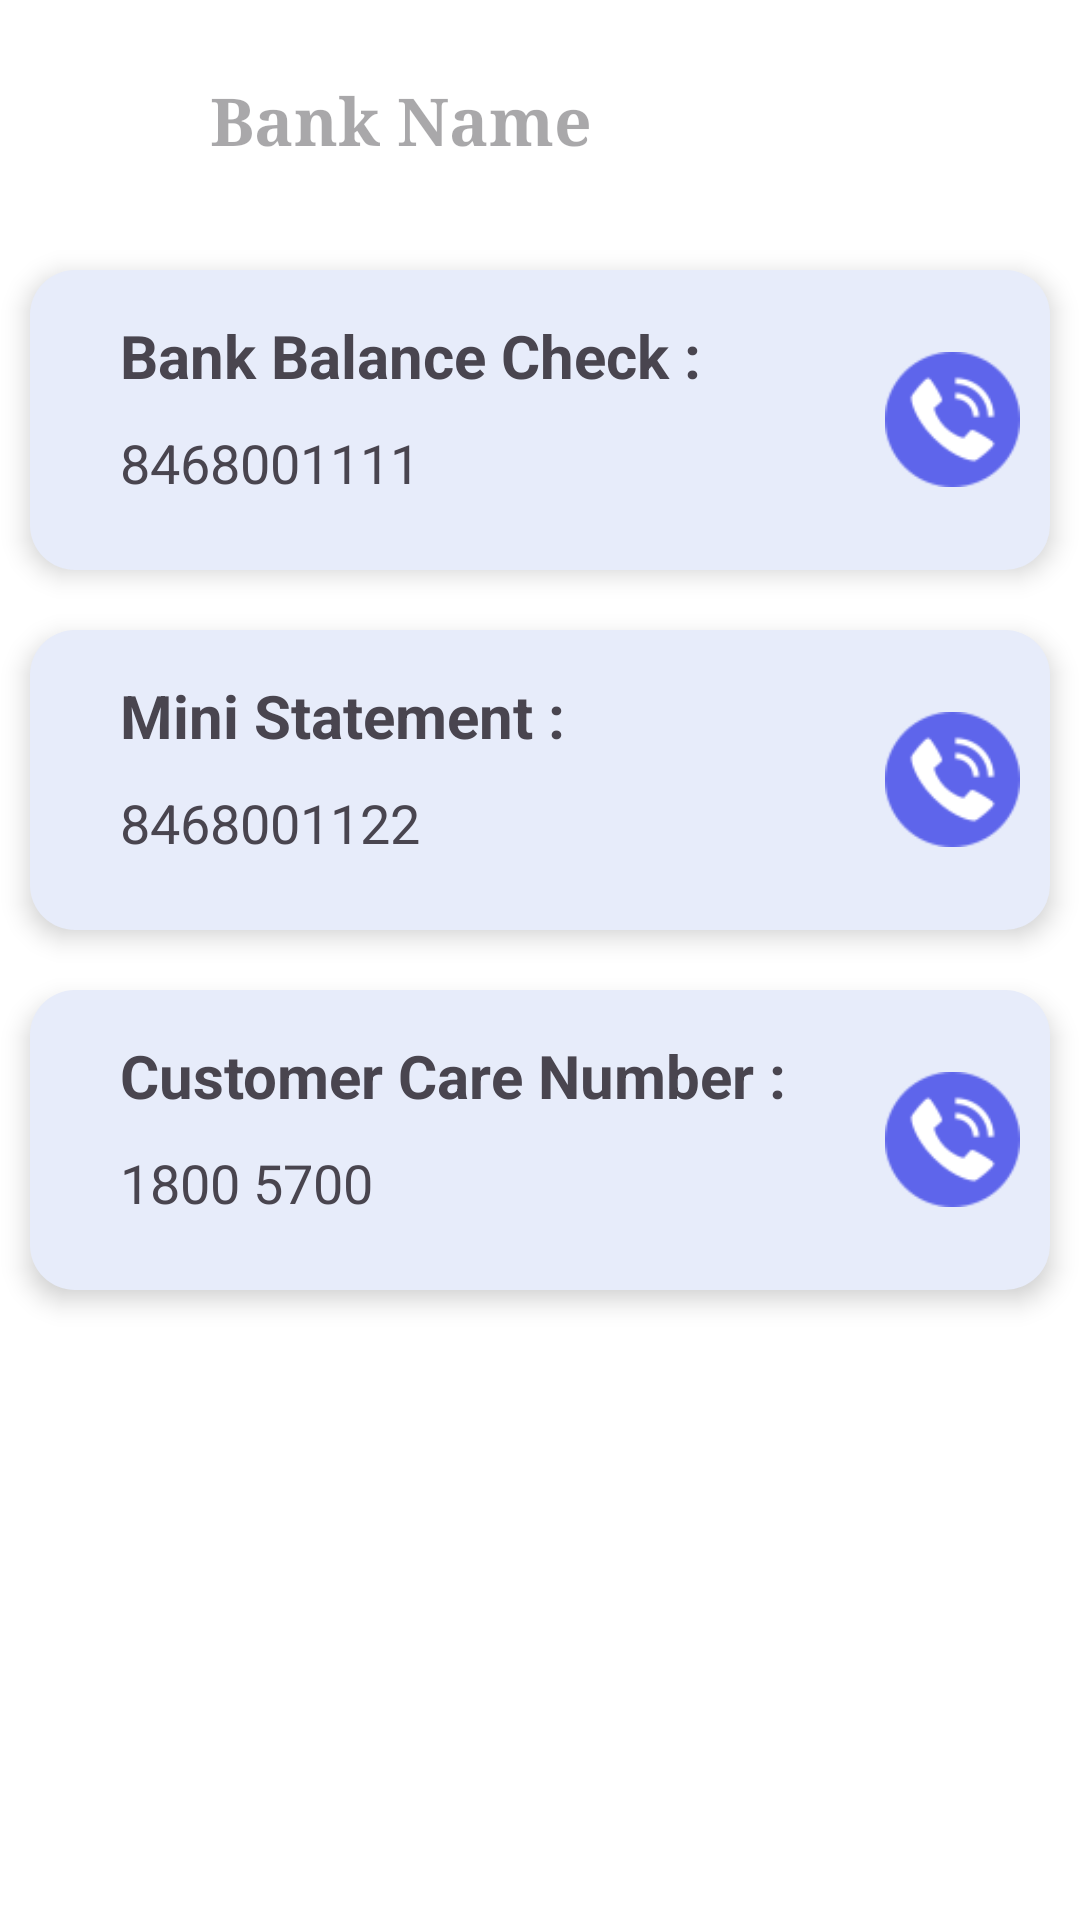

Icon click points for this 1080px×1920px phone screenshot, format (x,y):
phoneicon: (952,419), (952,779), (952,1139)
